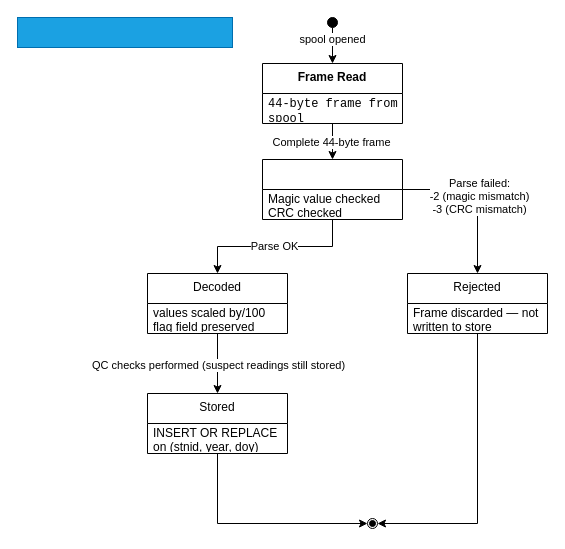
Image size: 565x549. Some labels were removed from this diagram. Here are the shapes that lost their labels. From the top down, the box of each, then its label:
(16, 16, 232, 48): Telemetry Frame State Diagram
(262, 158, 402, 220): Parsing
